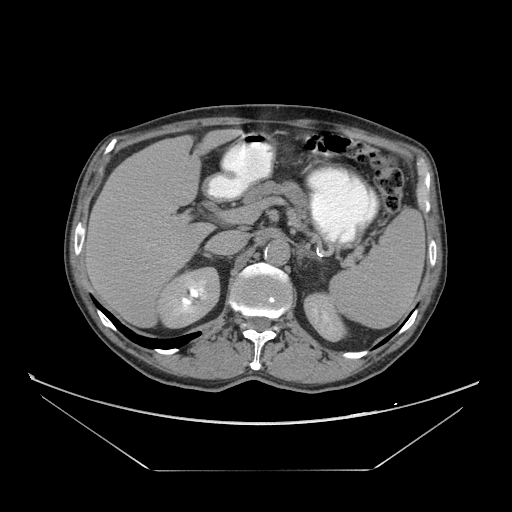left_kidney: (154, 264, 225, 331)
right_kidney: (299, 287, 352, 344)
